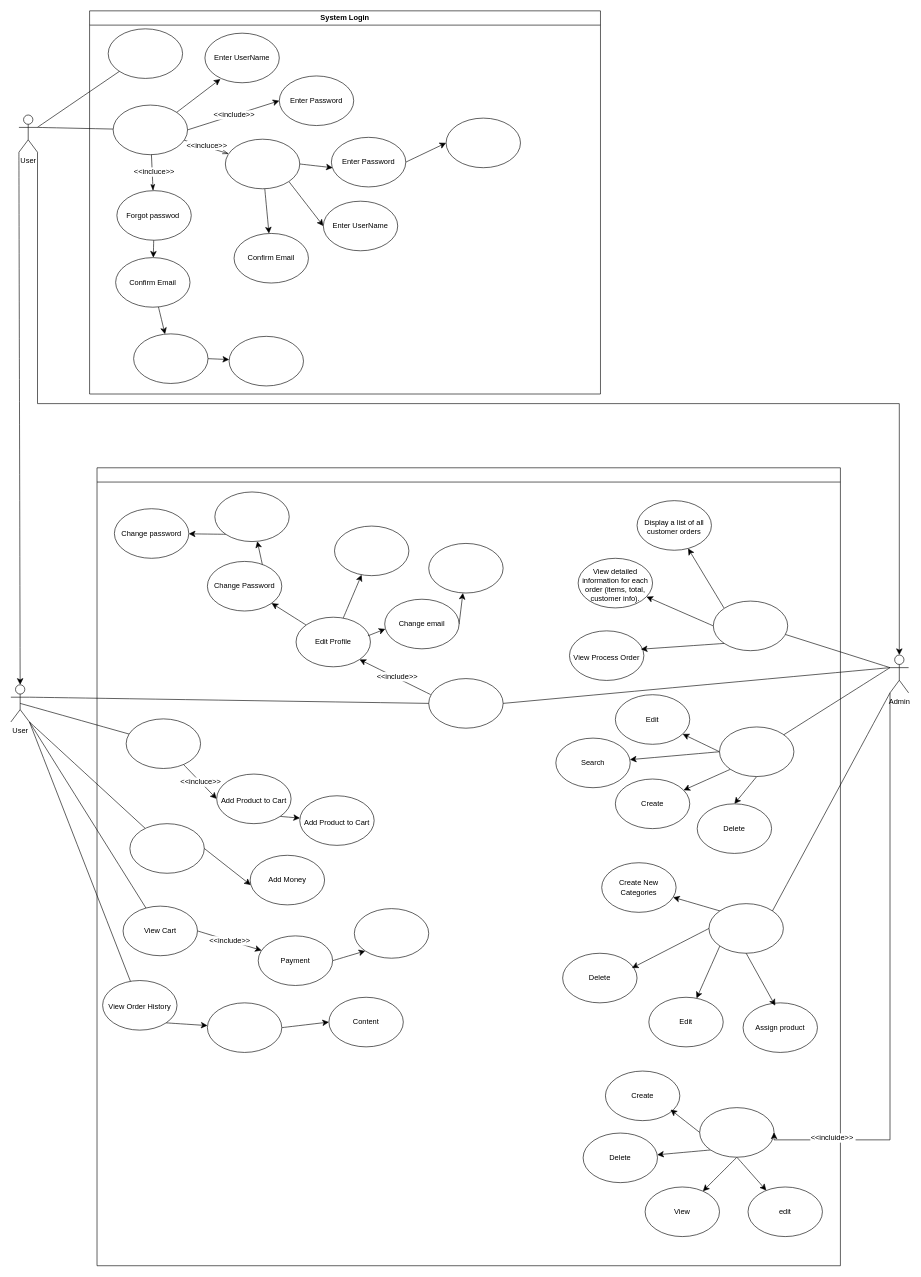
Image size: 921x1277. Some labels were removed from this diagram. The box of each missing label's shape, as (x1, y1, x2, y2) in pixels:
Cancel OrderDetail: (207, 1002, 282, 1052)
Confirm new email: (428, 543, 503, 593)
Confirm Password: (445, 117, 520, 168)
Current Password: (214, 491, 289, 542)
Enter new Password: (228, 336, 303, 386)
get bill: (354, 908, 429, 958)
Login: (113, 104, 188, 155)
Logout: (108, 28, 183, 78)
Manage Categories: (708, 903, 783, 953)
Manage Products: (719, 726, 794, 777)
Manage Users: (699, 1107, 774, 1157)
Register: (225, 139, 300, 189)
Sent OTP: (133, 333, 208, 383)
Shopping System: (96, 467, 840, 1266)
Upload image: (334, 525, 409, 576)
View Orders: (713, 600, 788, 651)
View Profile: (428, 678, 503, 728)
View Shopping: (126, 718, 201, 768)
View Wallet: (129, 823, 204, 873)
